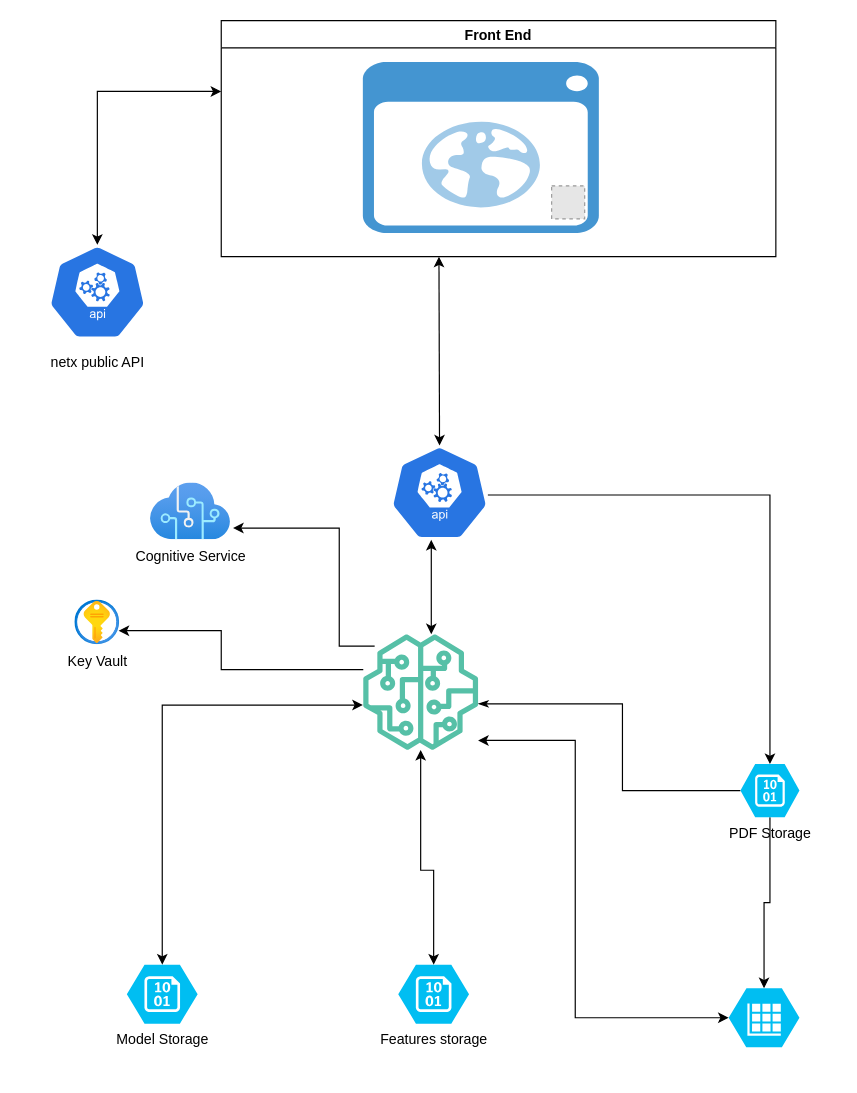
Image size: 857x1093. Some labels were removed from this diagram. Grey dashed boxes stand in for pictures. Here are the shapes that lost their labels. From the top down, the centre of each, then its label:
At (x=420, y=691): "Models".
At (x=763, y=1017): "PDF Storage Metadata".
